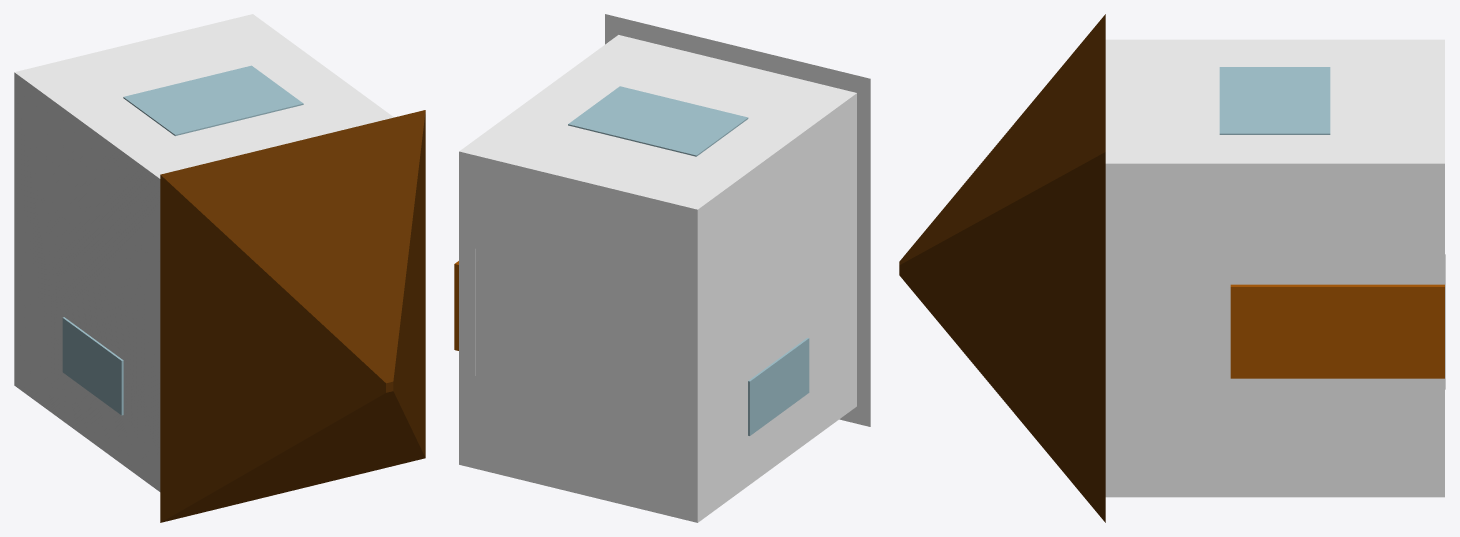
Rendered from Дом2Origin.fbx.
3 views of the same model, side by side, from view 1: azimuth 30°, elevation 25°; view 2: azimuth 150°, elevation 25°; view 3: azimuth 270°, elevation 25° (orthographic). The views are drawn at different scales.
Visible parts, largest first — view 1: Дом2; view 2: Дом2; view 3: Дом2.
Boxes of the visible parts, x1,y1,x2,y2 form: Дом2: (14, 14, 425, 522); Дом2: (454, 14, 870, 522); Дом2: (899, 14, 1445, 522).
Bounding box in the file's own units: 3.92 × 4.92 × 6.57.
